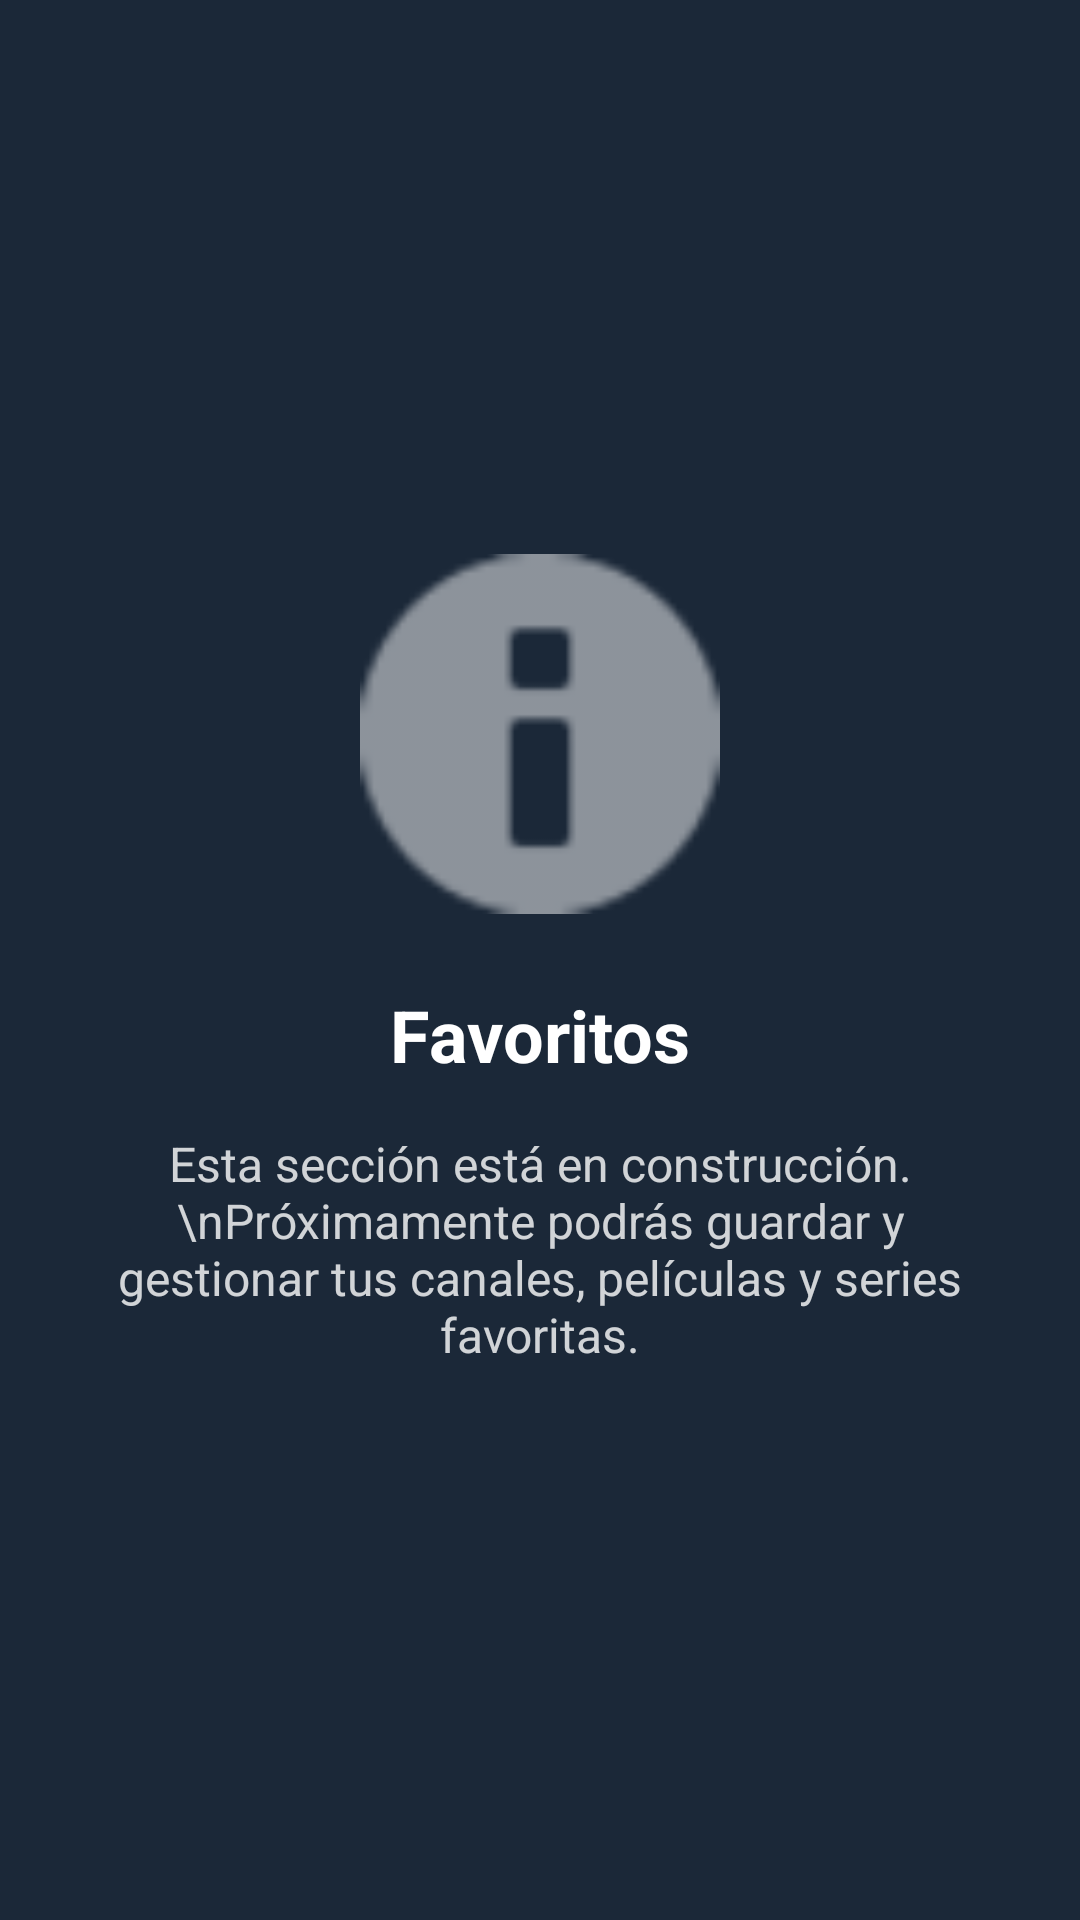

Icons on this 1080*1920 Android screen, each with its box as (x1, y1, x2, y2):
info: (360, 554, 720, 914)
